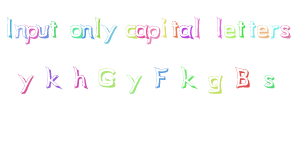B: (228, 59, 258, 96)
F: (145, 61, 175, 91)
G: (94, 62, 121, 93)
I: (1, 12, 19, 41)
a: (177, 20, 194, 45), (133, 18, 151, 41)
c: (123, 19, 138, 41)
e: (255, 19, 270, 42), (221, 21, 238, 41)
g: (200, 69, 230, 98)
h: (69, 61, 93, 92)
i: (158, 12, 170, 42)
k: (174, 60, 203, 95), (41, 61, 65, 91)
l: (213, 11, 225, 43), (193, 10, 205, 40), (93, 12, 104, 40)
n: (78, 18, 95, 41), (12, 21, 29, 41)
o: (67, 20, 84, 41)
p: (144, 21, 162, 48), (24, 21, 42, 47)
r: (268, 20, 280, 41)
s: (257, 69, 283, 93), (280, 20, 296, 42)
t: (48, 15, 62, 42), (169, 18, 182, 41), (235, 17, 247, 40), (247, 17, 257, 41)
u: (35, 20, 51, 41)
y: (121, 69, 146, 98), (11, 69, 38, 95), (102, 22, 121, 46)
